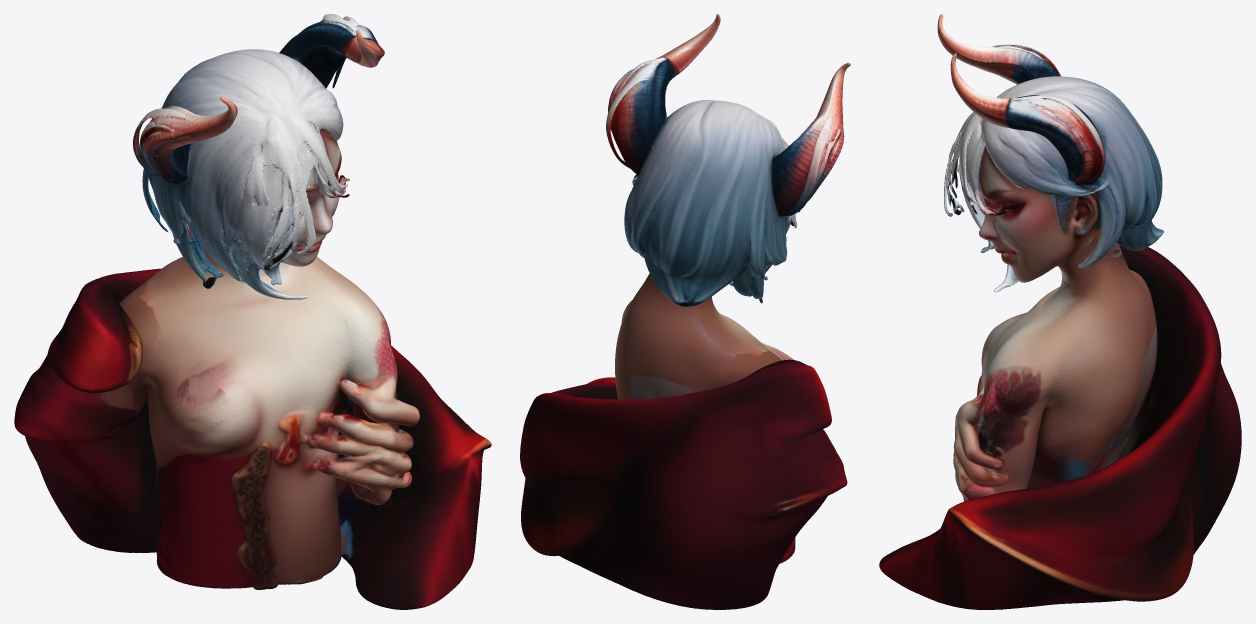
The model's file is tripo_convert_anime1.glb.
3 views of the same model, side by side, from view 1: azimuth 30°, elevation 25°; view 2: azimuth 150°, elevation 25°; view 3: azimuth 270°, elevation 25° (orthographic). The views are drawn at different scales.
Parts seen in each view (by area): view 1: tripo_node_fedba642-4d99-476e-bc7b-28e8ccfd16eb; view 2: tripo_node_fedba642-4d99-476e-bc7b-28e8ccfd16eb; view 3: tripo_node_fedba642-4d99-476e-bc7b-28e8ccfd16eb.
Part boxes in pixels (left/top/right/bottom): tripo_node_fedba642-4d99-476e-bc7b-28e8ccfd16eb: left=14, top=14, right=491, bottom=609; tripo_node_fedba642-4d99-476e-bc7b-28e8ccfd16eb: left=520, top=14, right=850, bottom=609; tripo_node_fedba642-4d99-476e-bc7b-28e8ccfd16eb: left=879, top=14, right=1241, bottom=609.
Size of the model in its own units: 0.7517 by 1 by 0.6533.
Materials: 1 (1 with a texture image).
